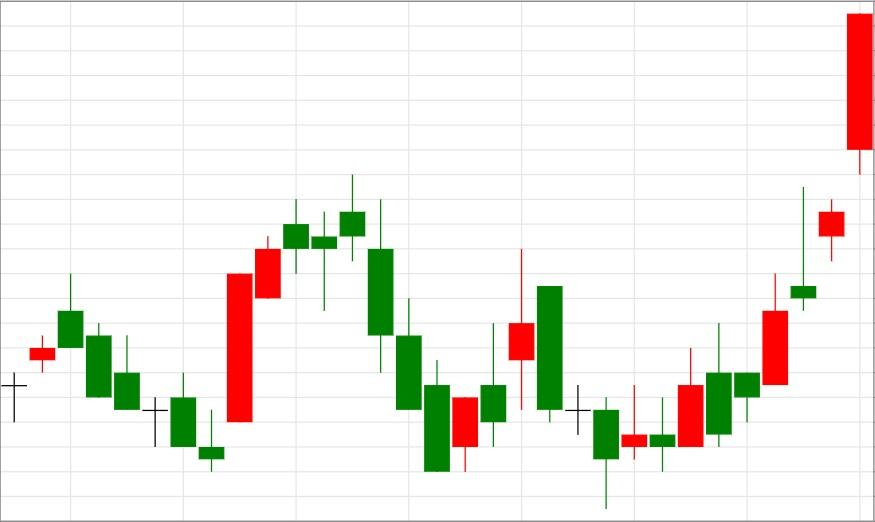three_black_crows_fall: (197, 174, 422, 470)
